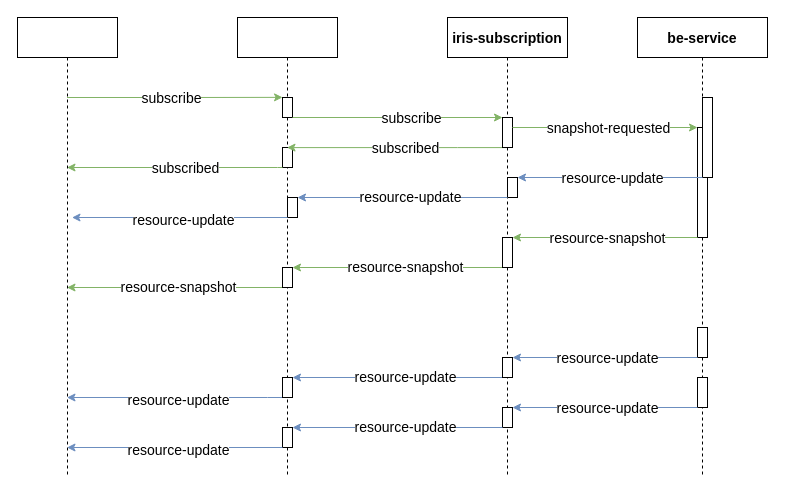
Image size: 785x495. Some labels were removed from this diagram. The box of each missing label's shape, as (x1, y1, x2, y2) in pixels:
Client: (16, 16, 118, 478)
iris-router: (236, 16, 338, 478)
